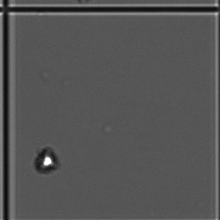Living Cell: (35, 142, 64, 183)
